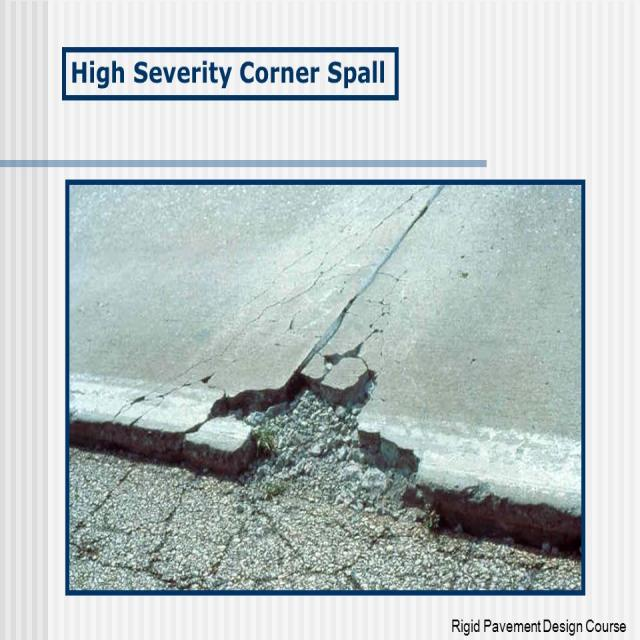Pothole: (140, 306, 628, 625)
